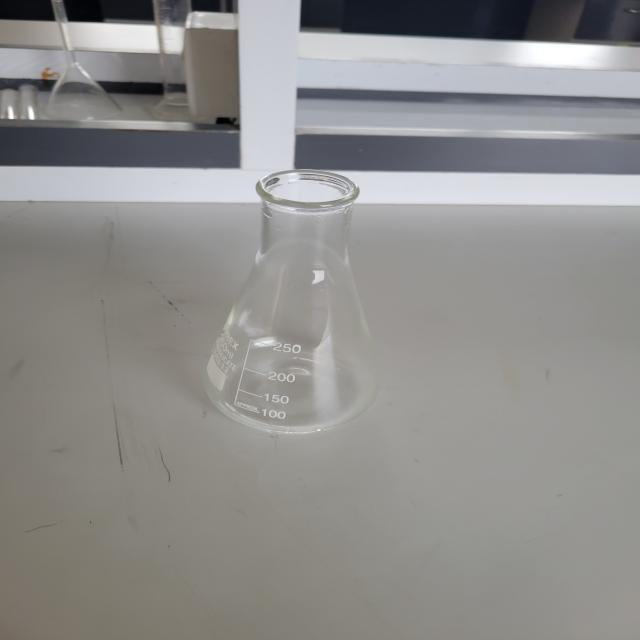Conical_Flask: (140, 148, 445, 470)
